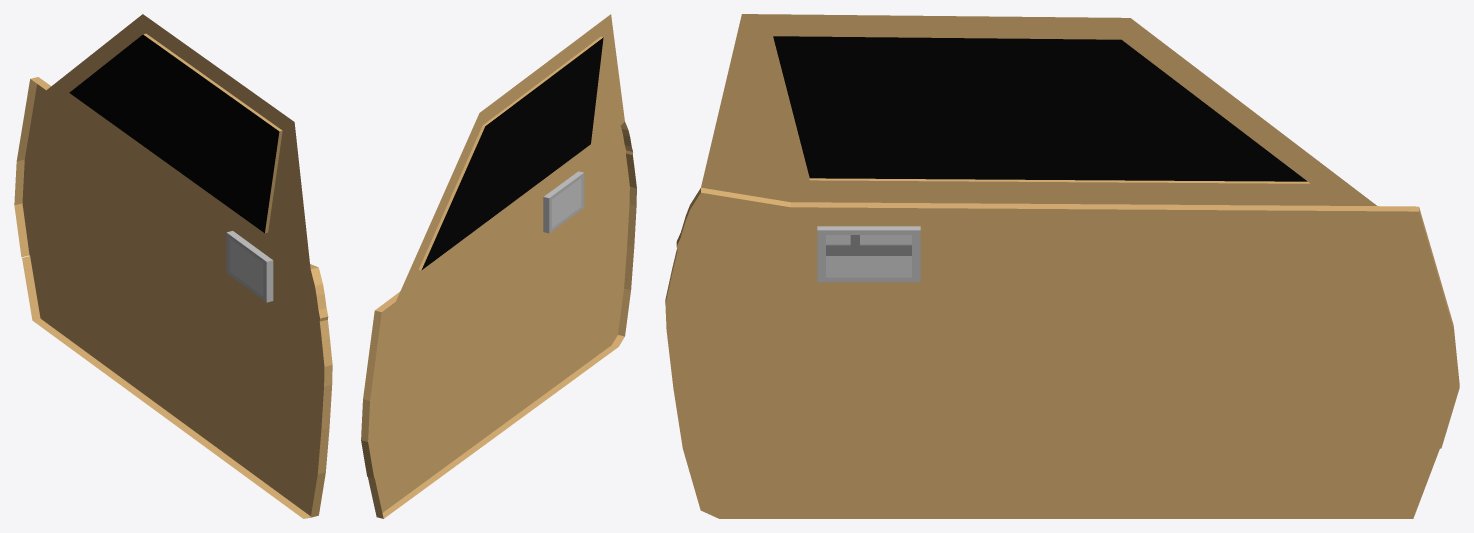
Rendered from porta_D.fbx.
The picture shows the model from 3 angles, left to right: view 1: azimuth 30°, elevation 25°; view 2: azimuth 150°, elevation 25°; view 3: azimuth 270°, elevation 25°; orthographic projection. The views are drawn at different scales.
Visible parts, largest first — view 1: Cube_1_3, Cube_7_5, Cube_7_6; view 2: Cube_1_3, Cube_7_6, Cube_7_5; view 3: Cube_1_3, Cube_7_5, Cube_7_6, Cube_8_4.
Part boxes in pixels (left/top/right/bottom): Cube_1_3: left=14, top=14, right=332, bottom=518; Cube_7_5: left=229, top=239, right=263, bottom=295; Cube_7_6: left=226, top=231, right=273, bottom=302; Cube_1_3: left=361, top=14, right=636, bottom=518; Cube_7_6: left=543, top=171, right=584, bottom=233; Cube_7_5: left=552, top=178, right=581, bottom=227; Cube_1_3: left=665, top=14, right=1459, bottom=518; Cube_7_5: left=826, top=235, right=911, bottom=277; Cube_7_6: left=817, top=226, right=920, bottom=282; Cube_8_4: left=826, top=244, right=911, bottom=255.
Size of the model in its own units: 5.43 by 114 by 164.
